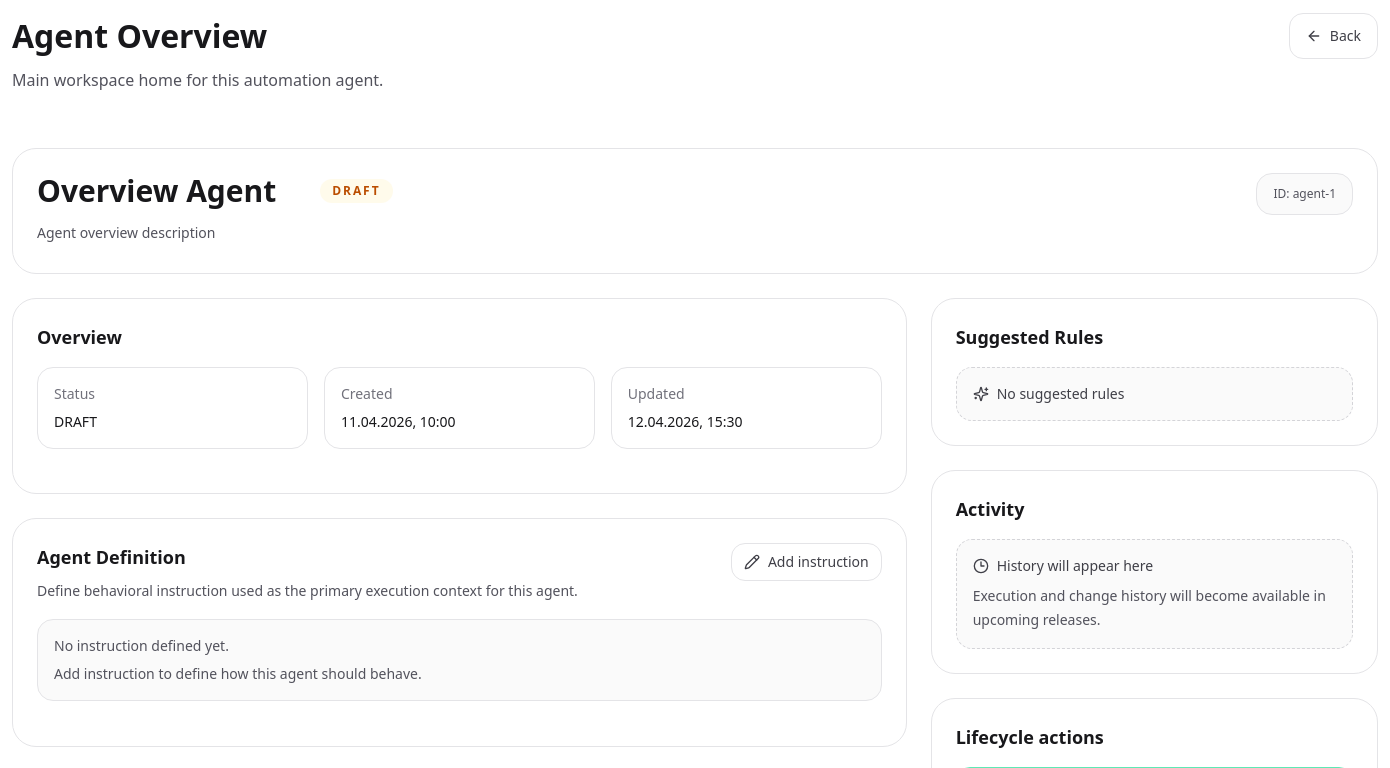
it: AgentOverviewPage › saves edited name on Enter and sends only name in patch payload
Expected: the heading "Agent Overview" is shown, [12,12,267,60]
Click the button with aria-label "Edit agent name". click: (157, 191)
box: [37,173,276,209]
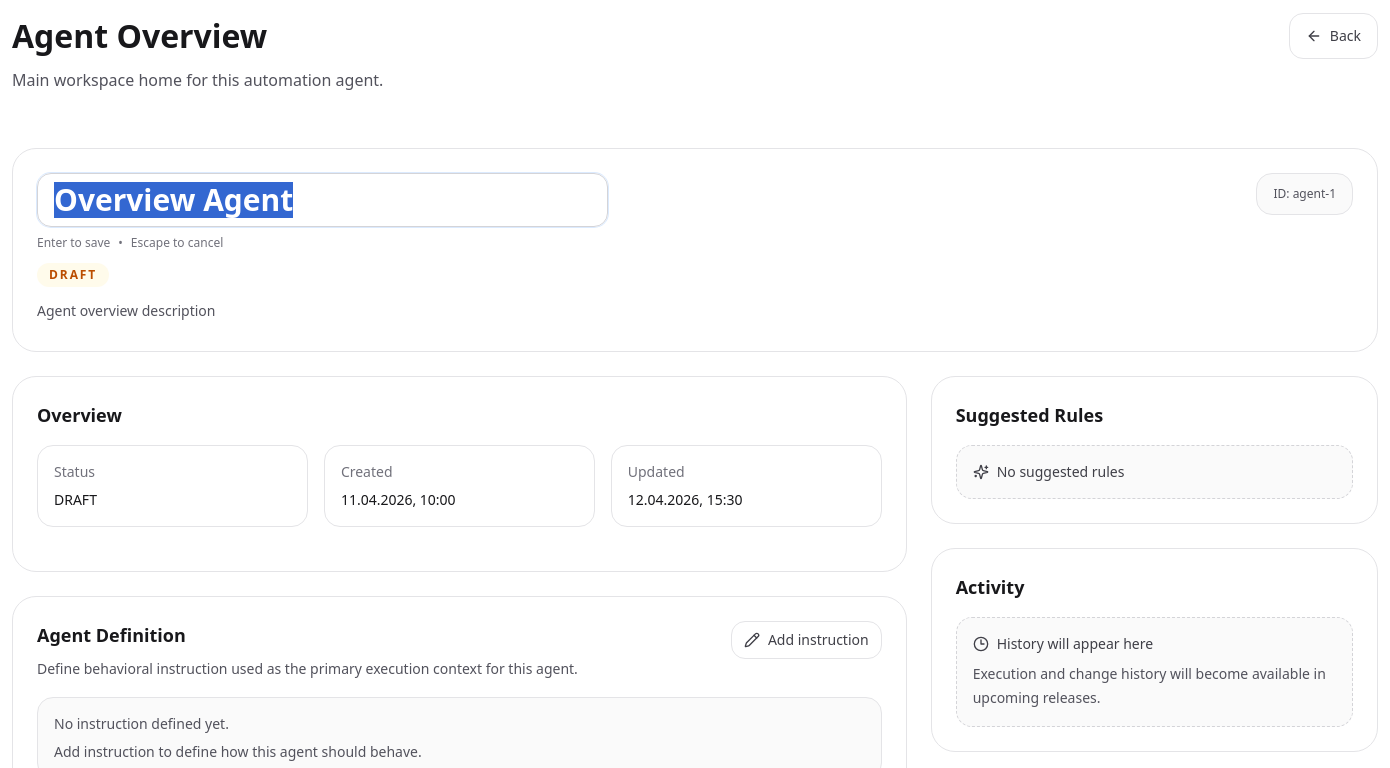
Replace the text in the field showing "Overview Agent" with "  Updated Name  ". click: (323, 200)
box: [37,173,608,227]
Then press Enter
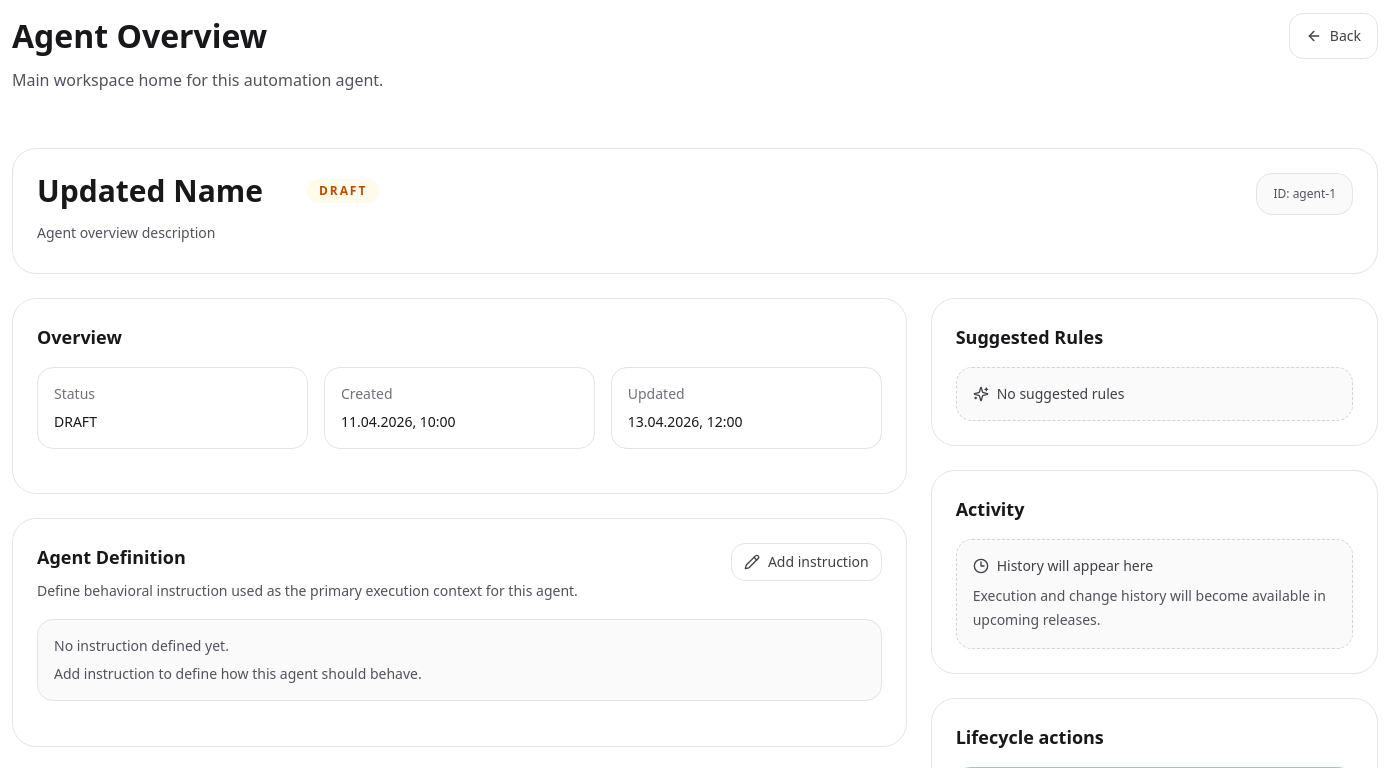
Now the button "Updated Name" is shown, box [37,173,263,209]
